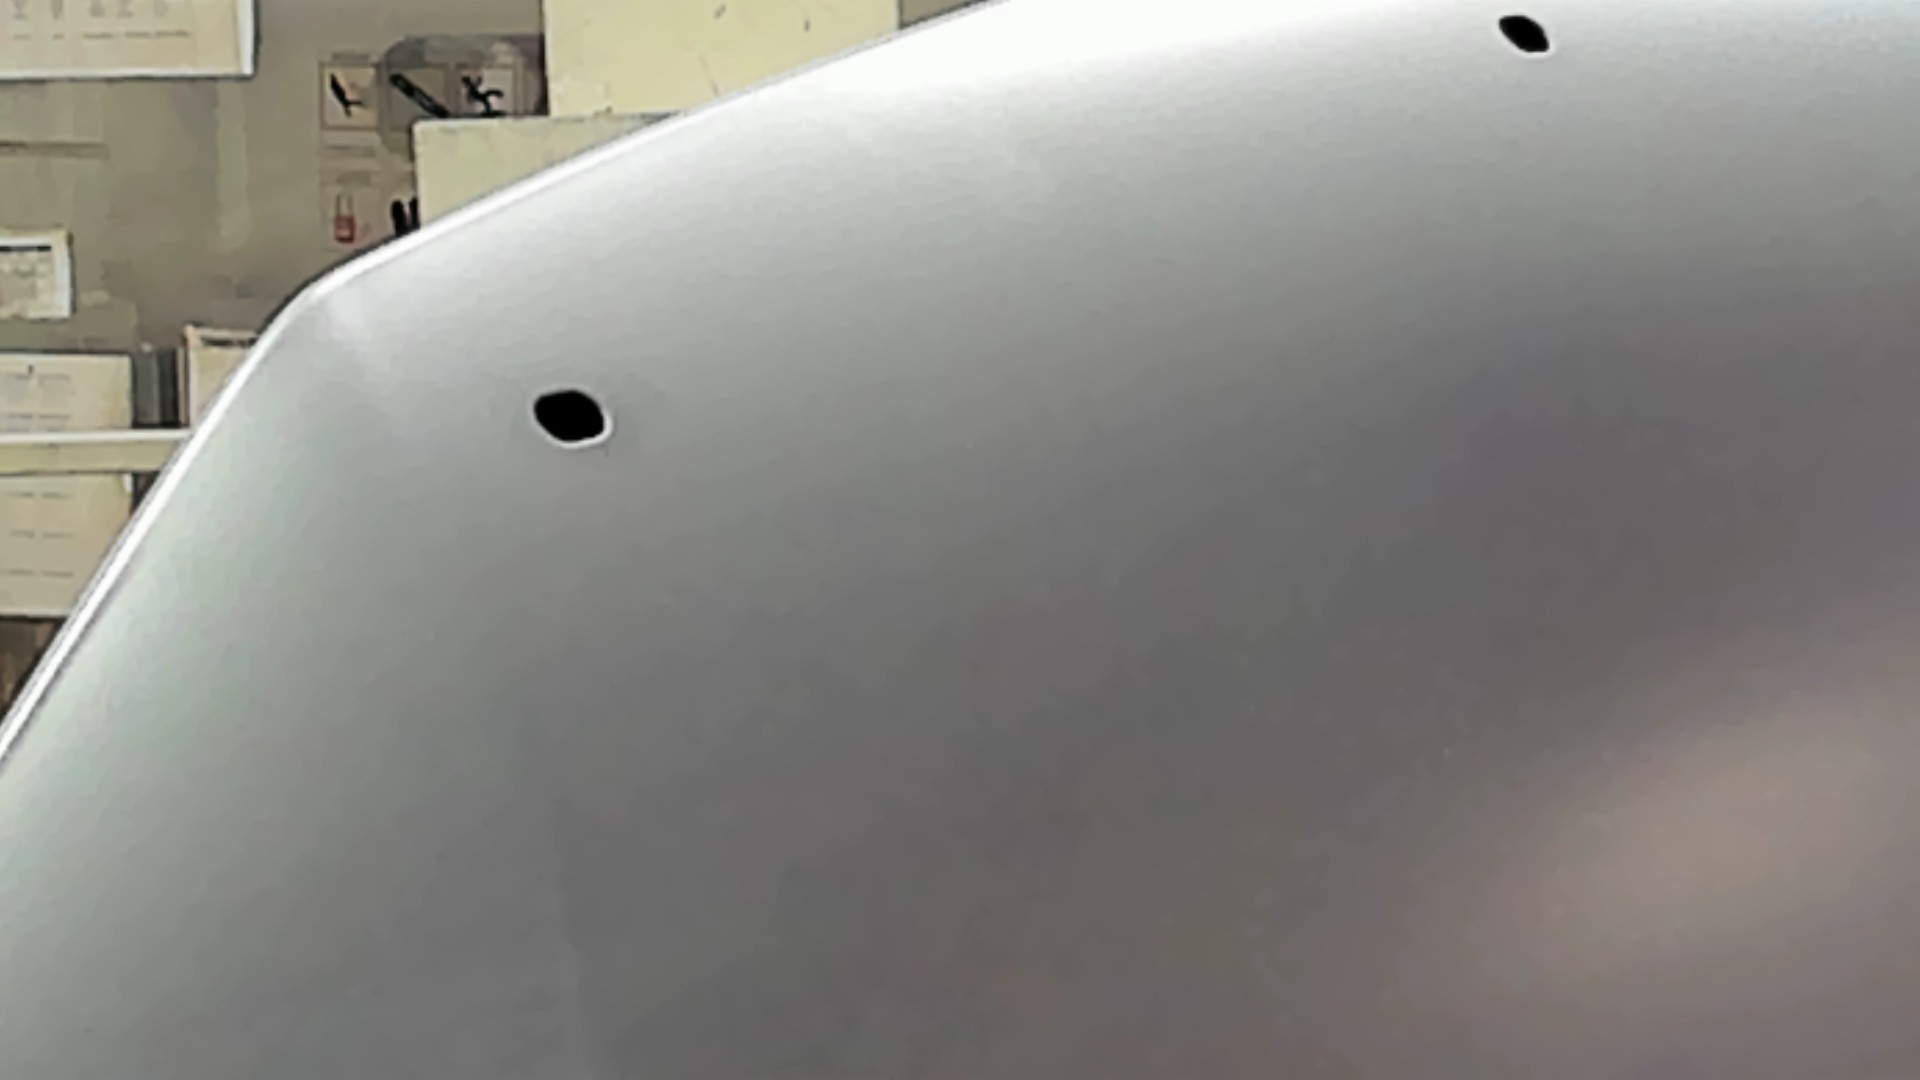amorfo: (527, 385, 616, 450), (1495, 11, 1560, 63)
